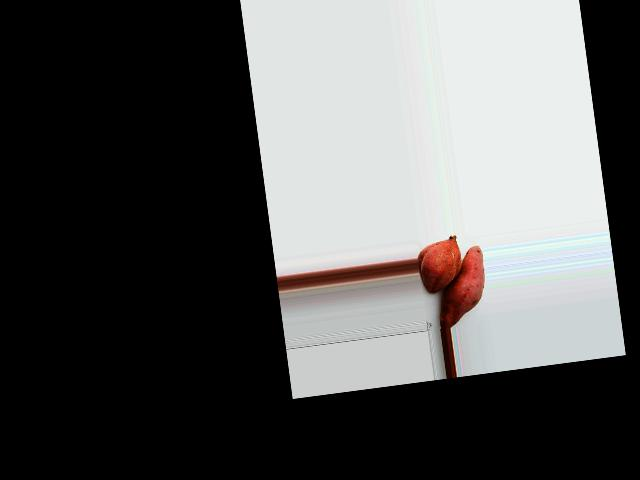sweet_potato: (420, 234, 461, 290)
